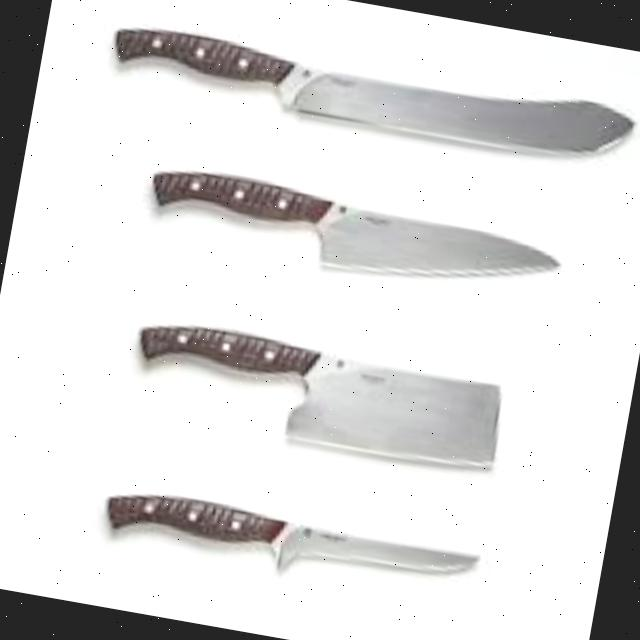Knife: (108, 13, 640, 173), (144, 158, 568, 306), (128, 314, 510, 478), (101, 482, 484, 607)
